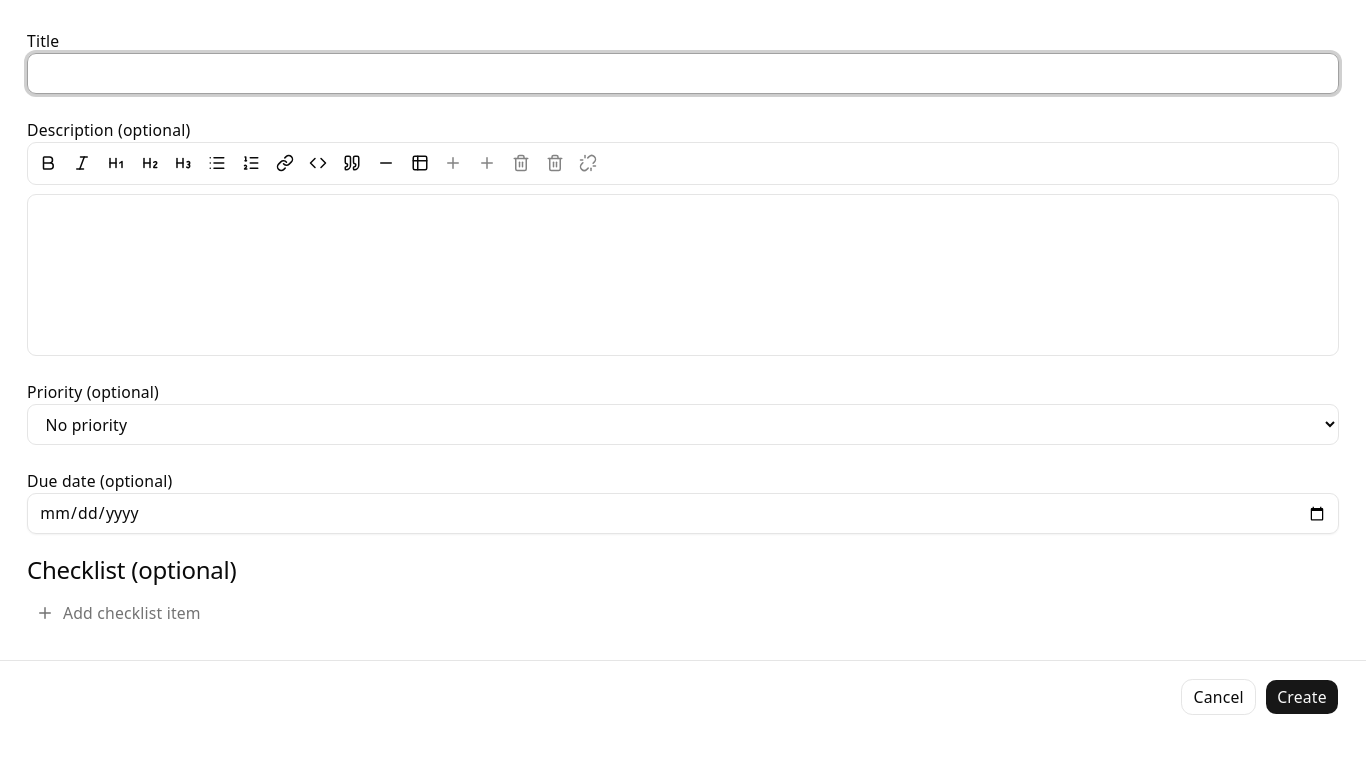
Test case: TaskCreateForm › shows a server description validation error beside the rich-text editor
The width and height of the screenshot is (1366, 768).
Step 1. Type "A task with invalid notes" into the field labelled "Title" → (683, 73), box [27,53,1339,94]
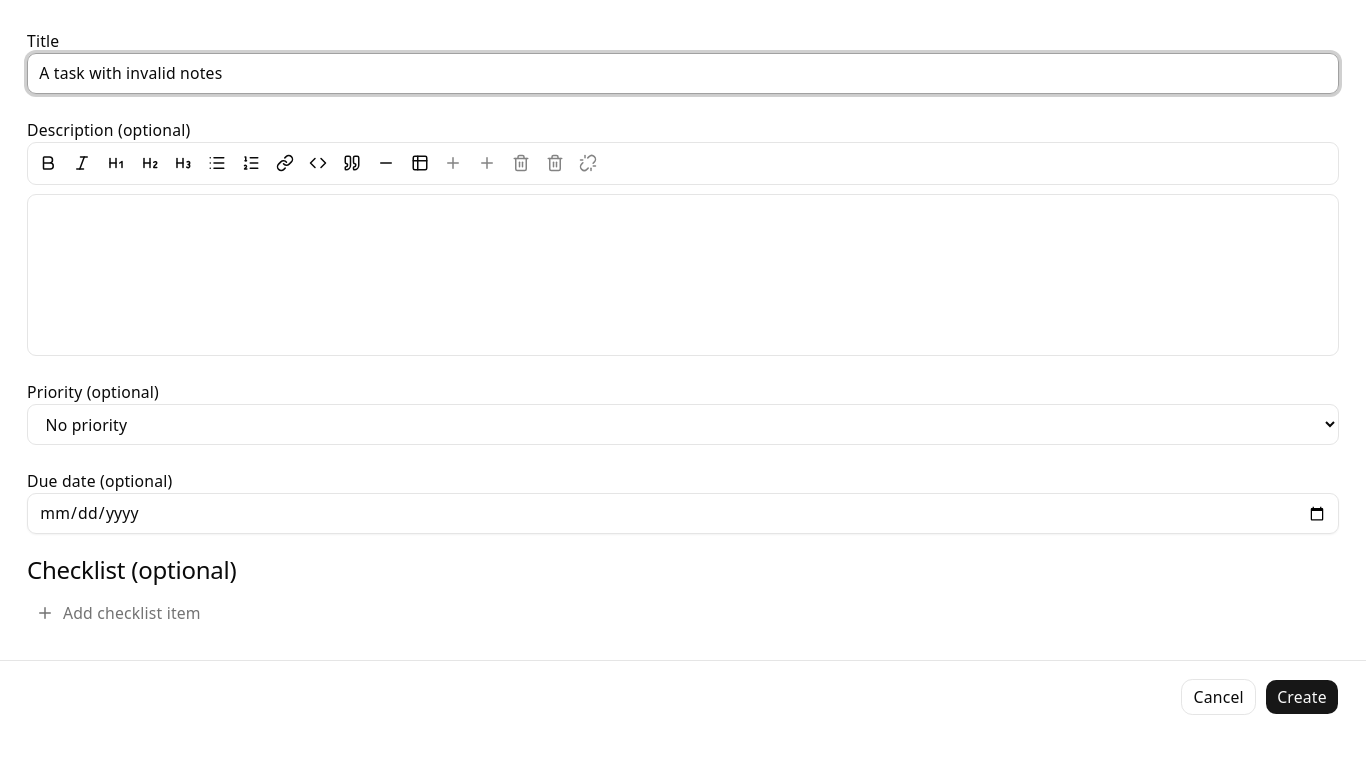
Check: the field named "Description (optional) editor" is shown, box [27,194,1339,356]
Step 2. Click the button "Create" → (1302, 697), box [1265,679,1339,715]
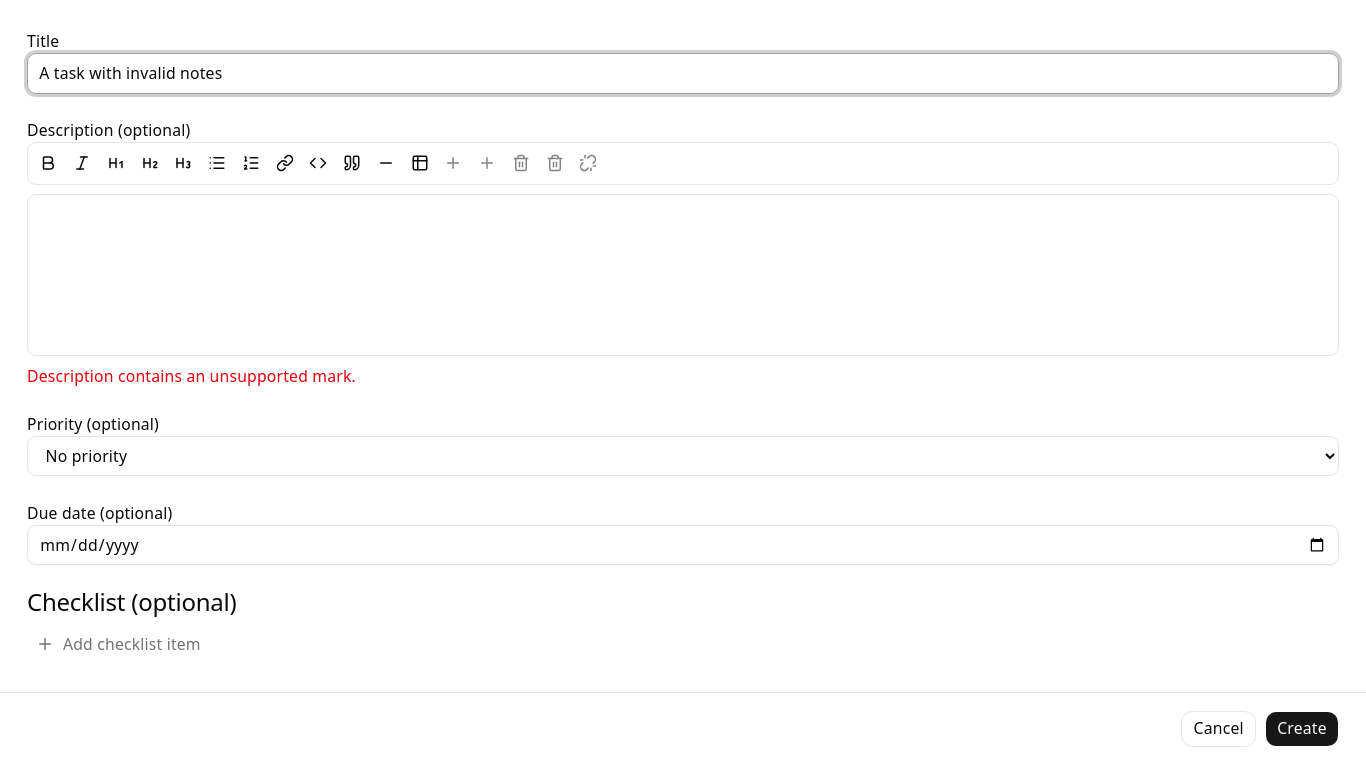
Check: the text "Description contains an unsupported mark." is shown, box [27,365,356,387]
